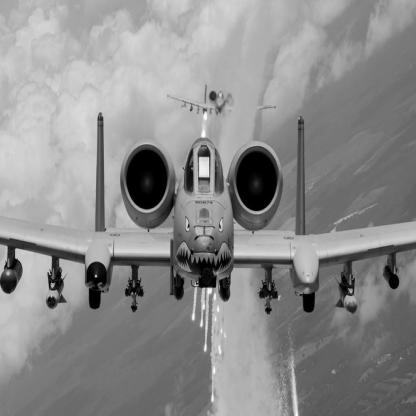A10: (2, 113, 416, 317), (168, 84, 278, 117)
